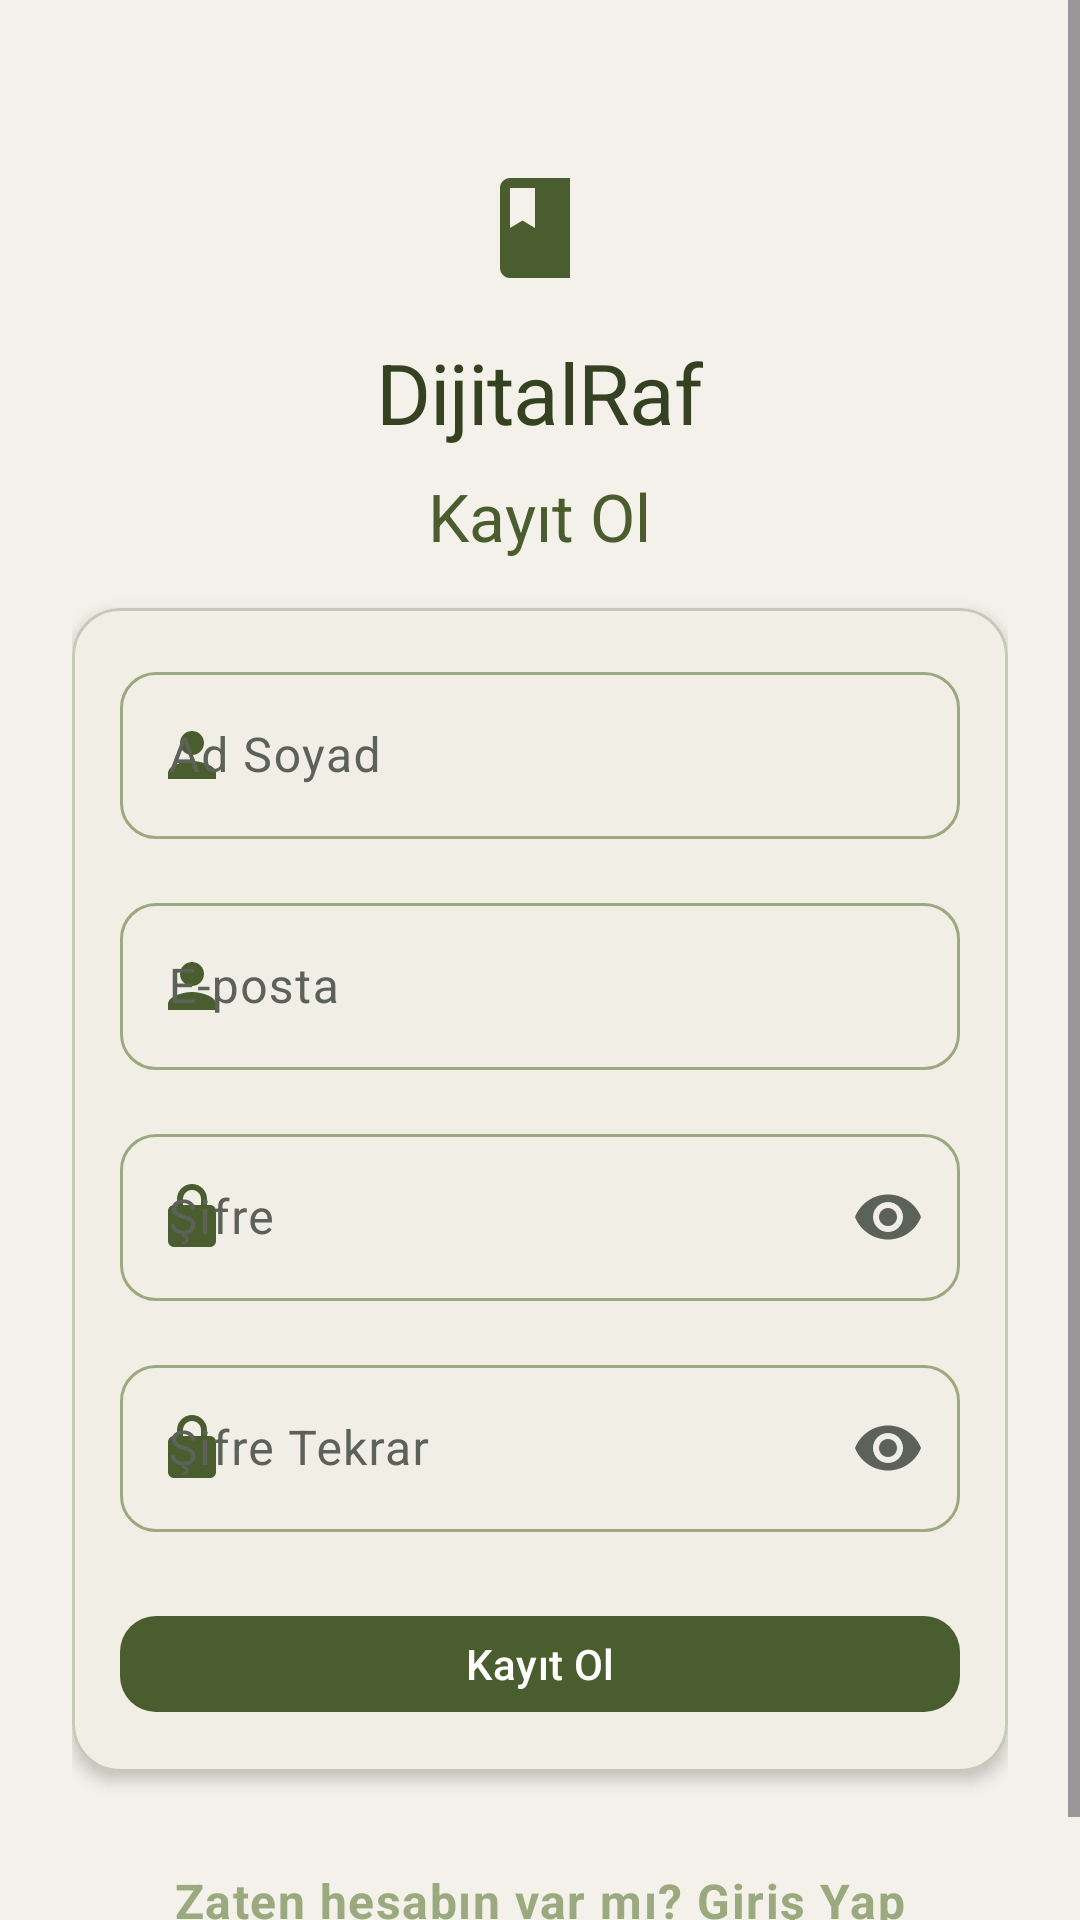

Where to tap for icons on this 1080x1920 app screen, as (x,y):
book: (535,228)
